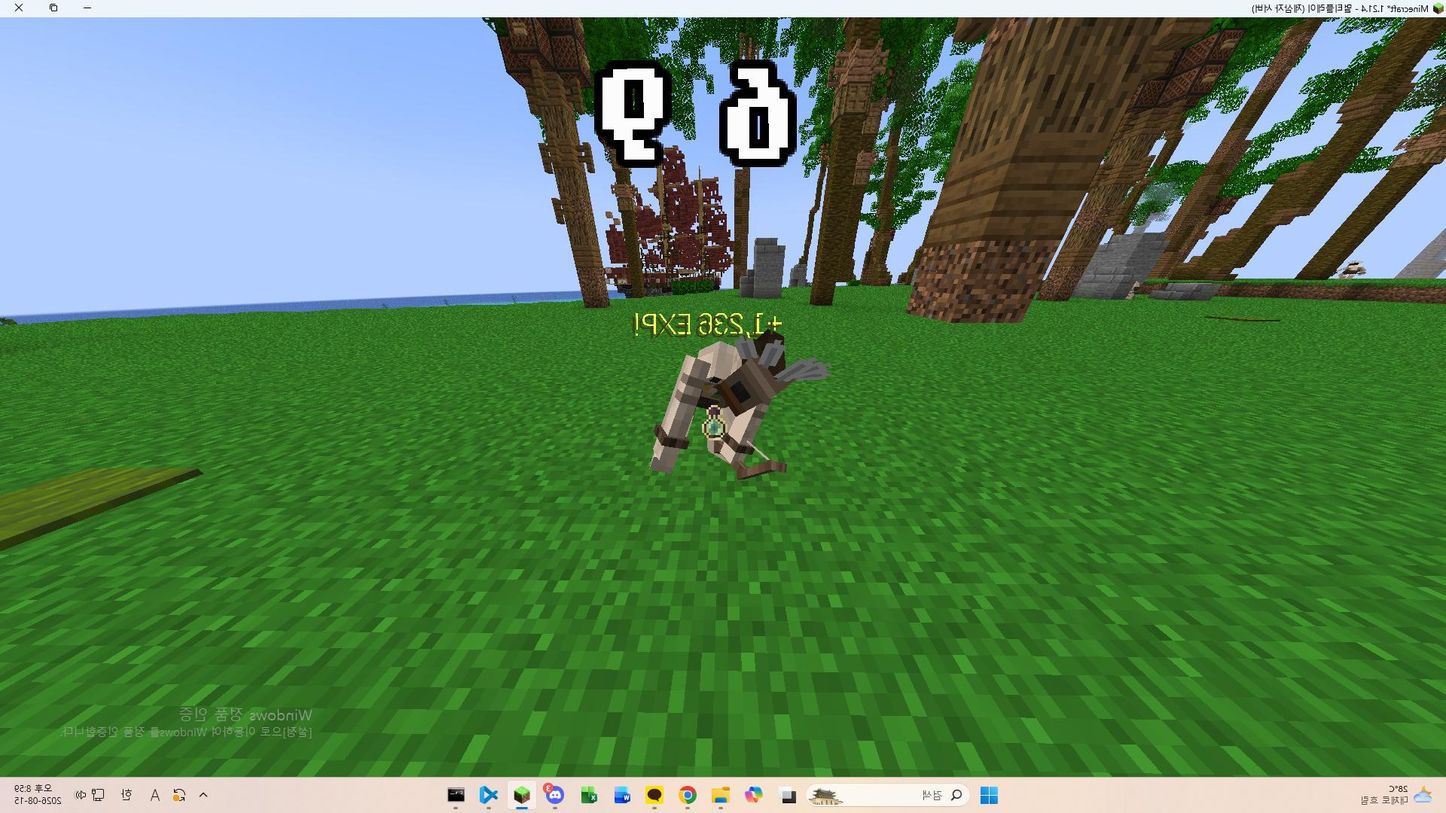bow_indian: (581, 300, 836, 525)
